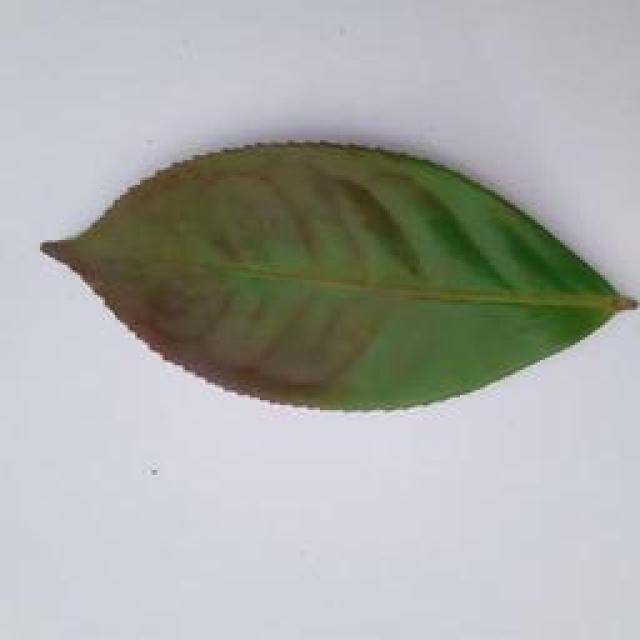Red Leaf Spot: (32, 145, 640, 423)
